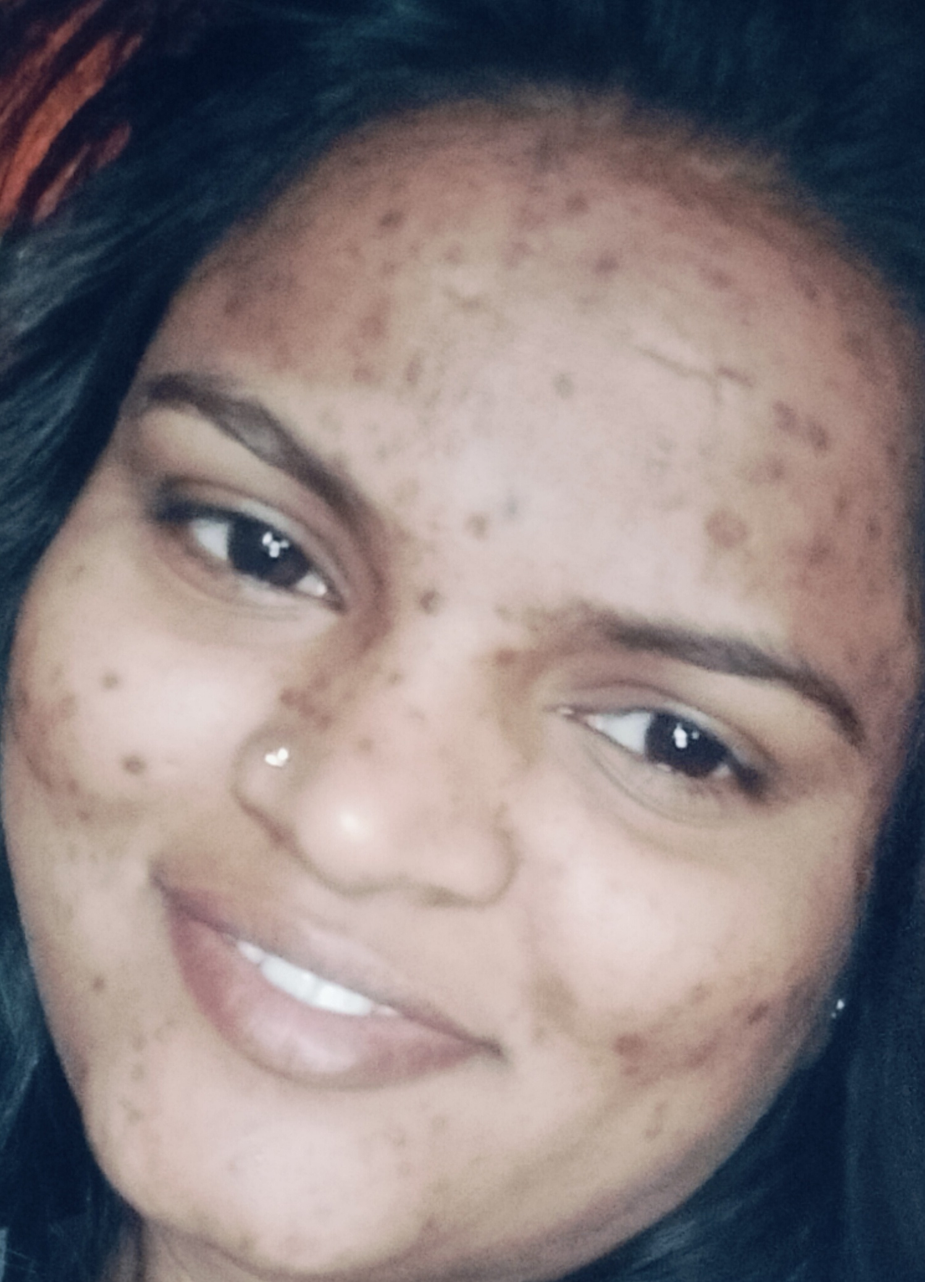papule: (754, 381, 850, 463), (683, 484, 765, 573), (579, 224, 647, 294), (530, 355, 611, 412), (600, 1026, 680, 1077), (353, 290, 401, 372), (61, 948, 118, 1015), (363, 186, 412, 256), (338, 721, 399, 776), (469, 501, 532, 548), (103, 734, 162, 781), (414, 567, 452, 624)
